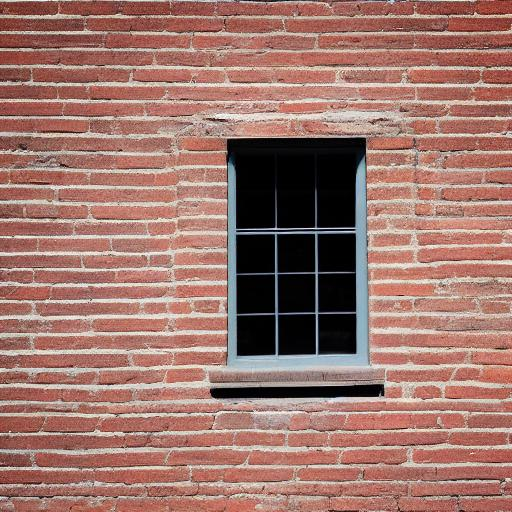Window: (208, 134, 387, 390)
